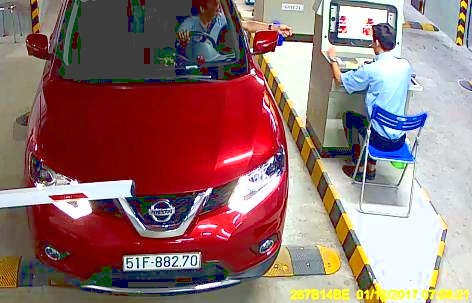plate: (121, 251, 201, 274)
